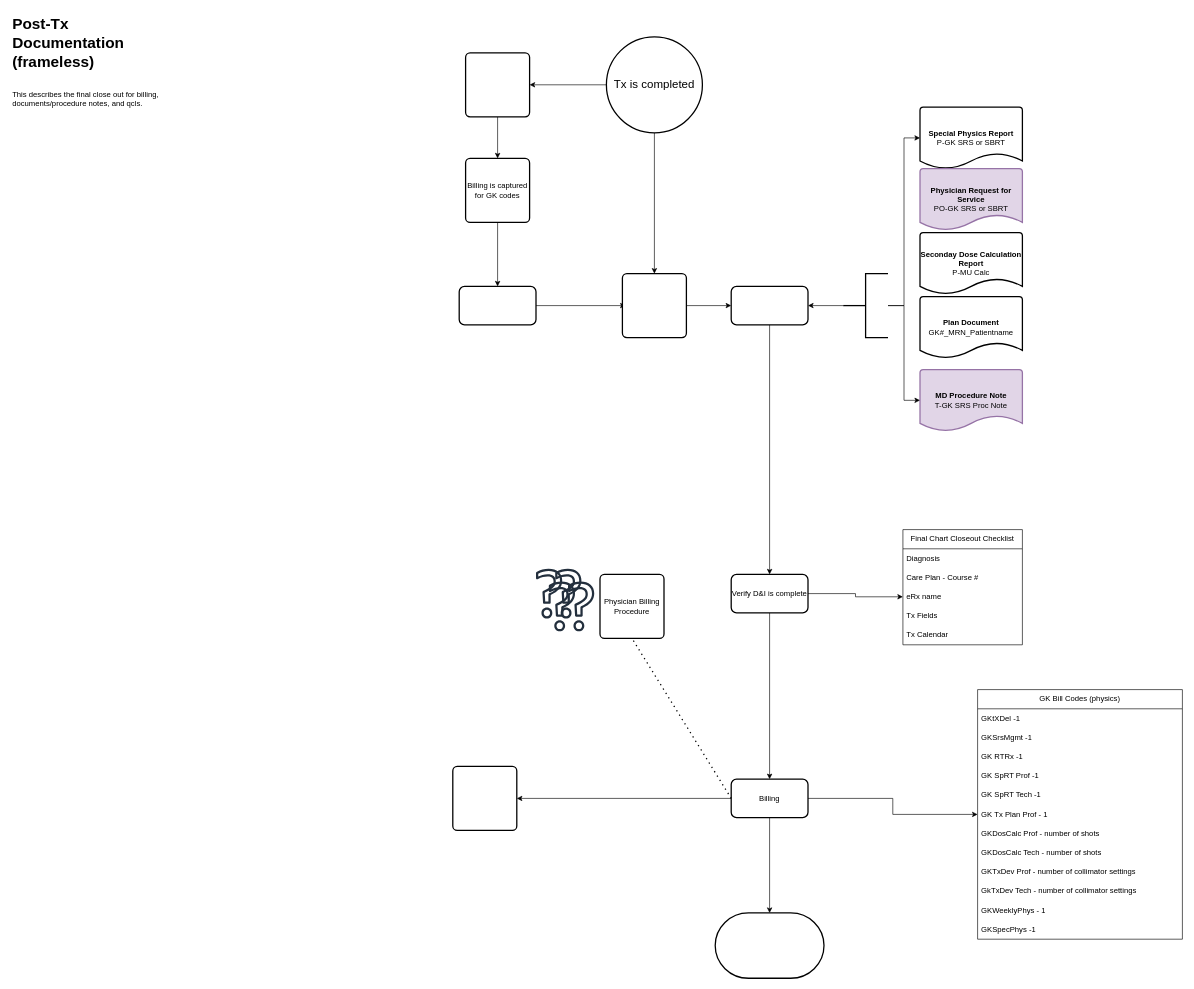
The diagram is 1194 pixels wide and 989 high, and some of its shapes have lost their labels. Each missing label, with the centre of its shape:
"Complete Physics Final Chart closeout QCL" goes at point 769,945.
"Ensure that documentation is complete and approved" goes at point 769,305.
"Physics Finalizes Documentation" goes at point 654,305.
"QCL sent to physics for final GK closeout" goes at point 497,305.
"RTT Billing Procedure" goes at point 484,798.
"Therapist completes R&V in Mosaiq" goes at point 497,84.
